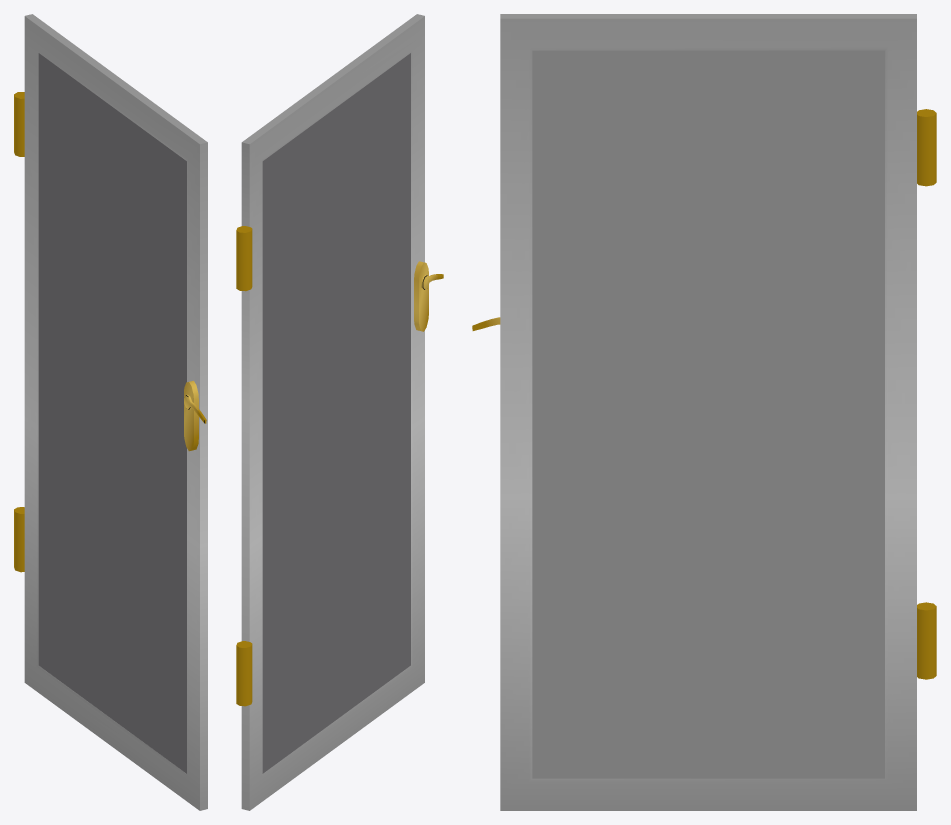
Rendered from Drzwi.gltf.
3 renders of one model, left to right at view 1: azimuth 30°, elevation 25°; view 2: azimuth 150°, elevation 25°; view 3: azimuth 270°, elevation 25°, orthographic. The views are drawn at different scales.
Visible parts, largest first — view 1: Circle.001; view 2: Circle.001; view 3: Circle.001.
Part boxes in pixels (x1,y1,x2,y2): Circle.001: (14,14,207,810); Circle.001: (236,14,443,810); Circle.001: (472,14,936,810).
Bounding box in the file's own units: 0.0673 × 2.77 × 1.47.
3 materials, 3 textured.
